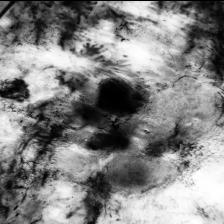Potentially Malignant Skin Tumors: (97, 80, 137, 114), (0, 73, 33, 103)
